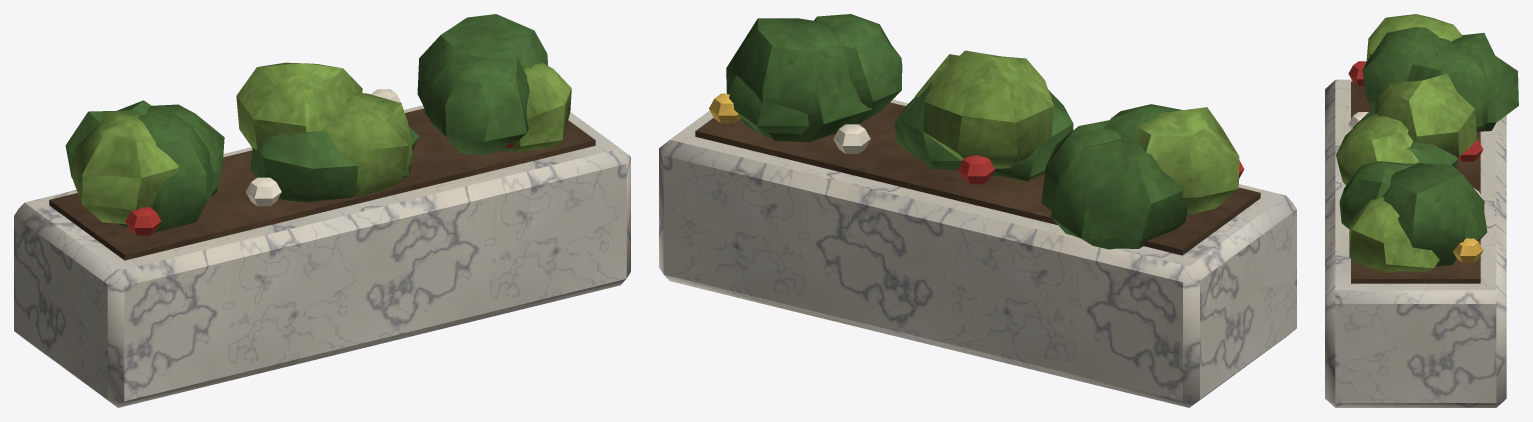
File: decor_planter_t1.glb
3 renders of one model, left to right at view 1: azimuth 30°, elevation 25°; view 2: azimuth 150°, elevation 25°; view 3: azimuth 270°, elevation 25°, orthographic. The views are drawn at different scales.
Visible parts, largest first — view 1: step, leaf_dark, leaf, earth.001, cloth_cream, cloth_red; view 2: step, leaf_dark, leaf, earth.001, cloth_red, cloth_cream, cloth_gold; view 3: step, leaf_dark, leaf, earth.001, cloth_red, cloth_gold.
Part boxes in pixels (x1,y1,x2,y2): step: [14, 105, 630, 407]; leaf_dark: [65, 14, 548, 232]; leaf: [72, 62, 571, 224]; earth.001: [49, 108, 595, 260]; cloth_cream: [246, 89, 401, 206]; cloth_red: [125, 141, 514, 235]; step: [659, 99, 1296, 407]; leaf_dark: [726, 14, 1193, 249]; leaf: [915, 50, 1239, 214]; earth.001: [695, 102, 1260, 255]; cloth_red: [958, 155, 1244, 184]; cloth_cream: [833, 124, 870, 153]; cloth_gold: [709, 93, 741, 123]; step: [1325, 79, 1506, 407]; leaf_dark: [1339, 27, 1518, 266]; leaf: [1336, 14, 1476, 272]; earth.001: [1351, 81, 1480, 283]; cloth_red: [1348, 61, 1483, 161]; cloth_gold: [1453, 238, 1483, 262].
Size of the model in its own units: 2 by 0.9145 by 0.7468.
Materials: 7 (7 with a texture image).
